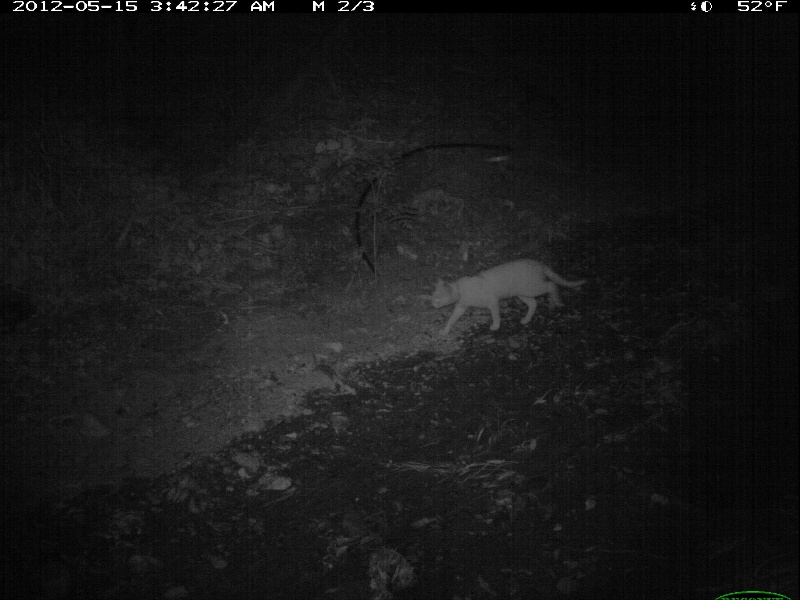cat: (426, 250, 589, 340)
